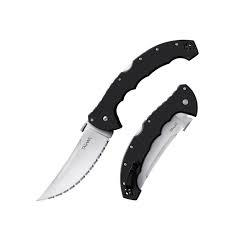knife: (34, 41, 157, 210)
